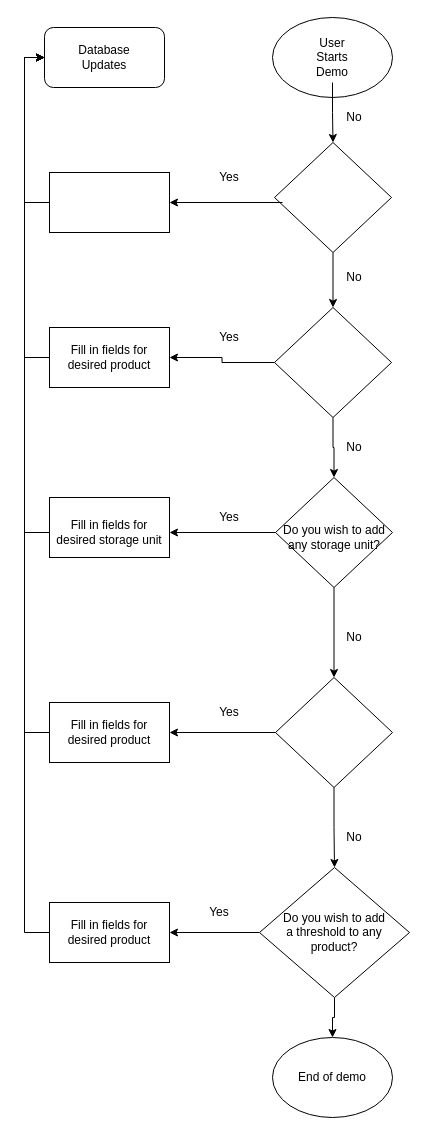
The diagram is 427 pixels wide and 1135 high, and some of its shapes have lost their labels. Each missing label, with the box of its shape:
Click + or - for desired product: (48, 172, 170, 232)
Do you wish to add any product?: (274, 306, 392, 418)
Do you wish to restock on any product?: (274, 676, 392, 788)
Do you wish to update any product?: (274, 142, 392, 252)
